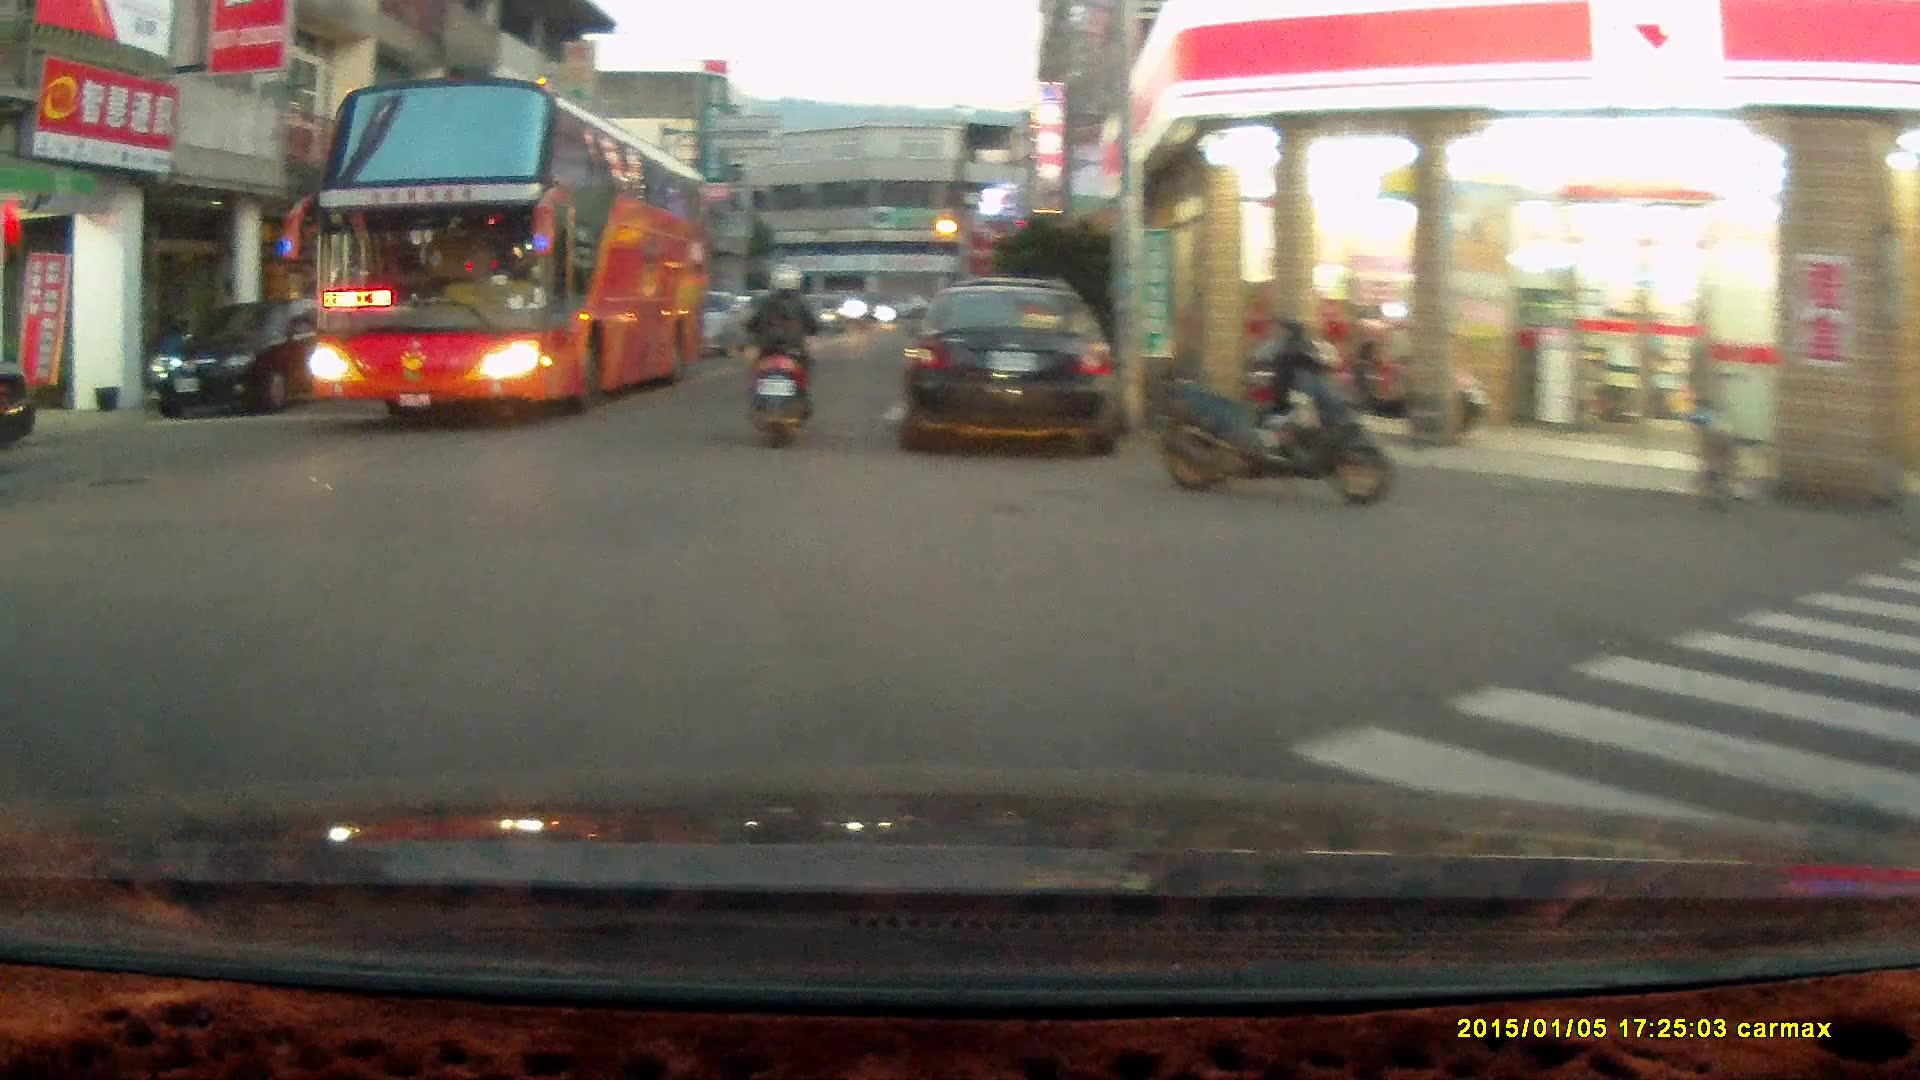rider: (731, 264, 815, 453)
vehicle: (302, 81, 717, 425), (897, 281, 1127, 457), (150, 299, 355, 412)
